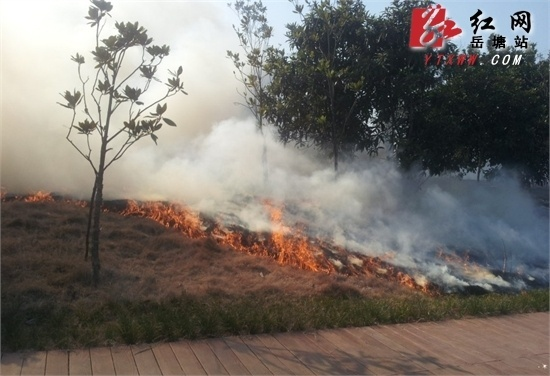fire: (116, 189, 423, 278)
